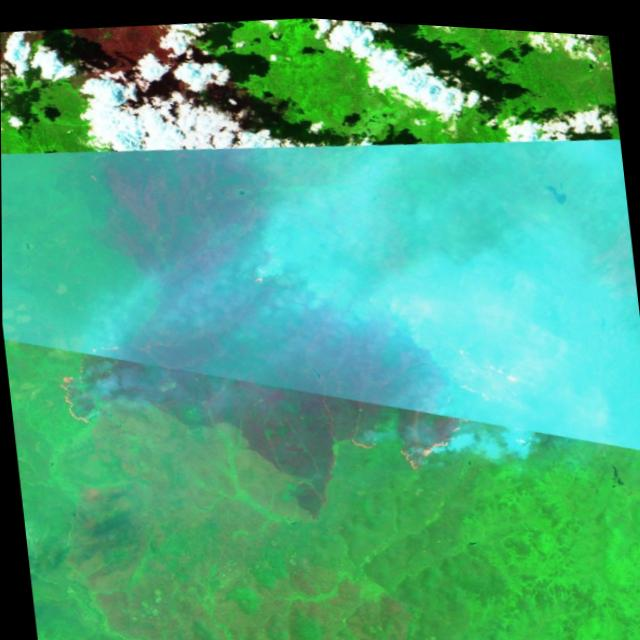fire: (315, 308, 548, 483), (41, 326, 144, 433), (235, 236, 291, 291)
